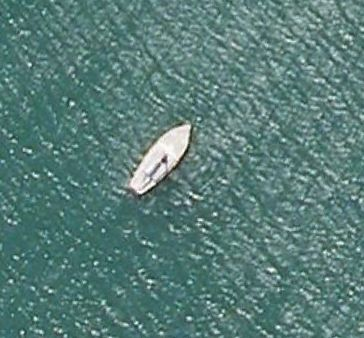boat: (127, 123, 193, 198)
